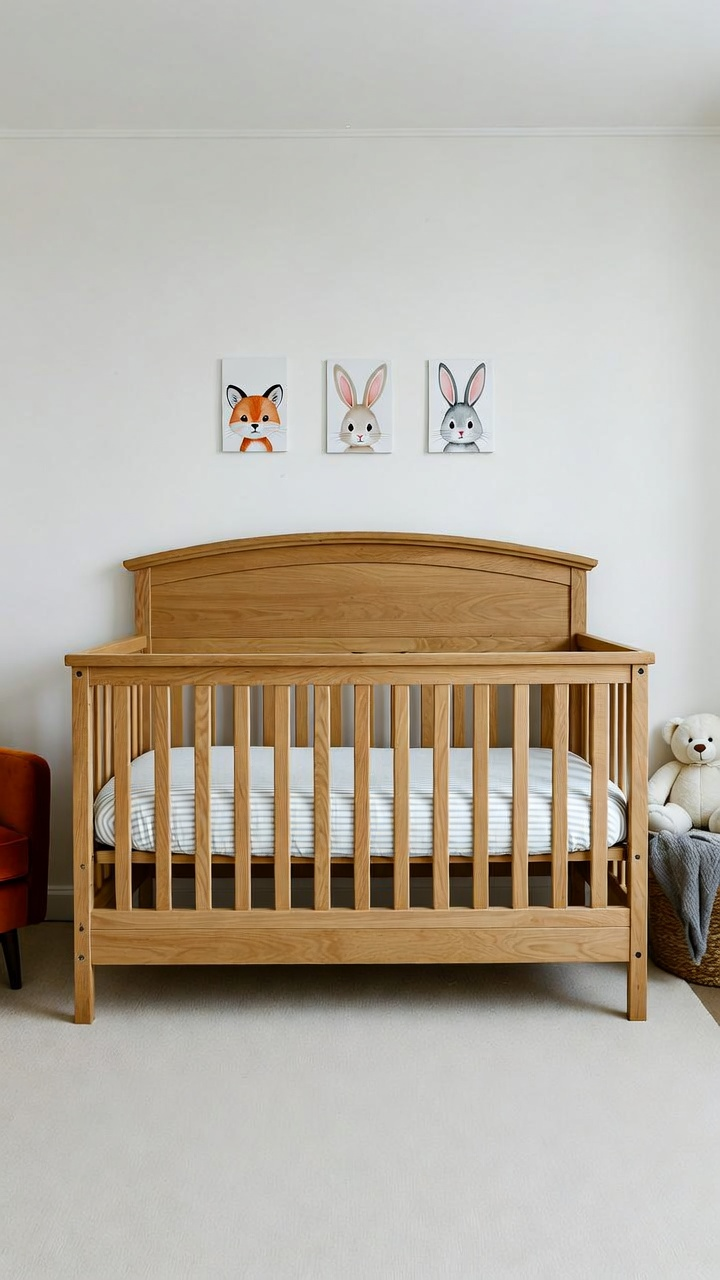crib: (67, 533, 648, 1022)
